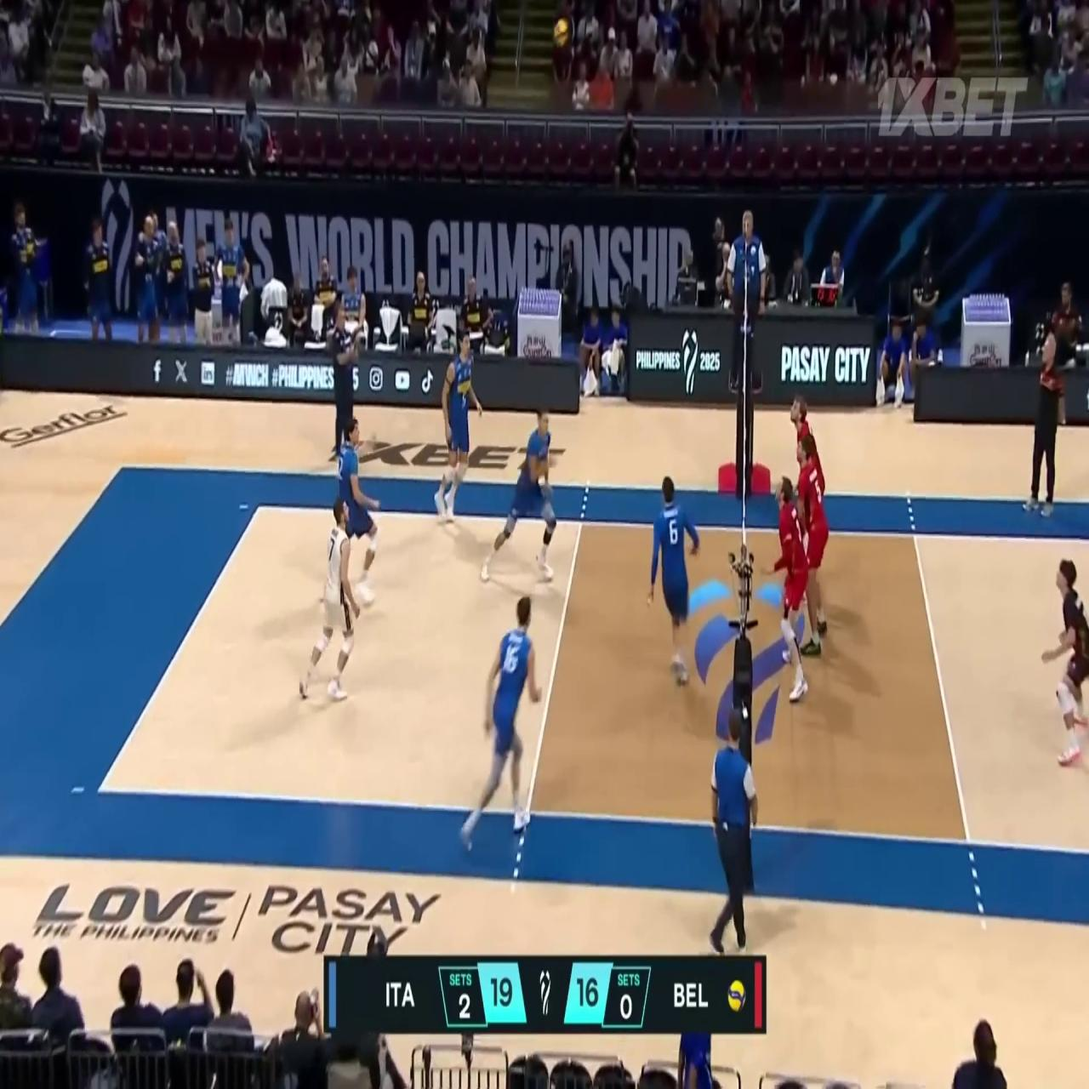ball: (554, 19, 569, 46)
